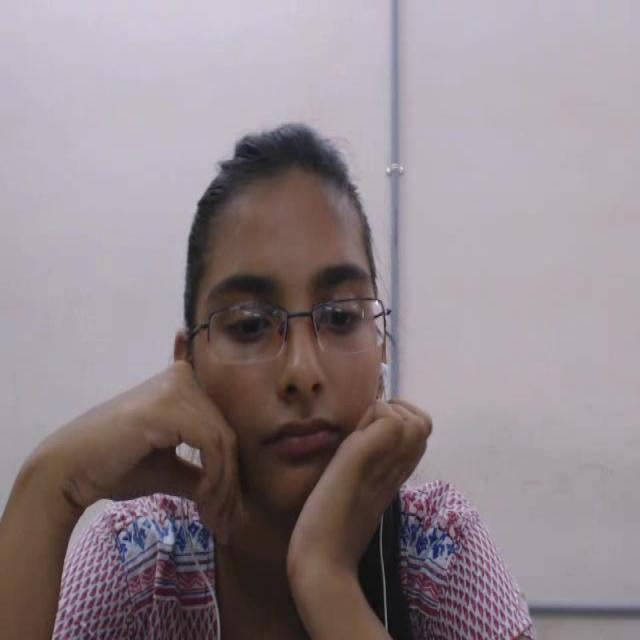Bored: (151, 99, 453, 585)
